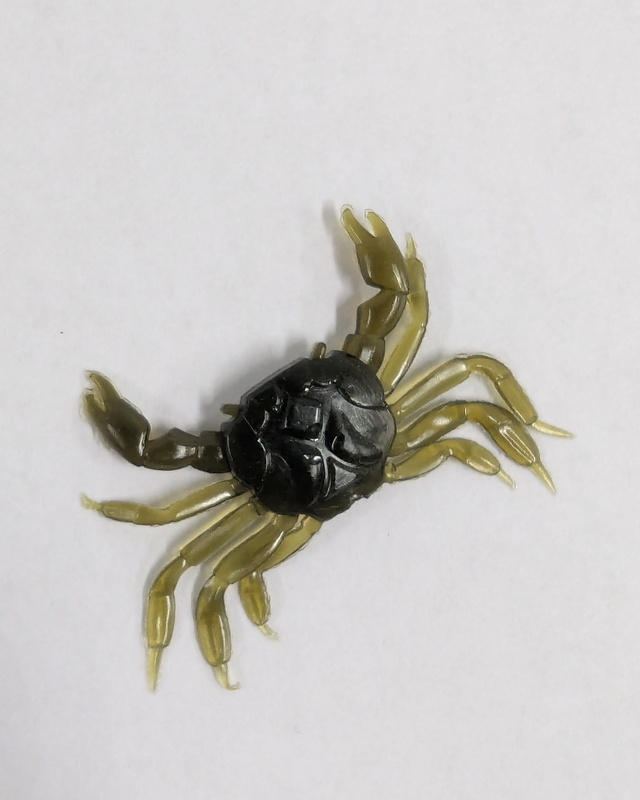crab2: (76, 200, 576, 695)
